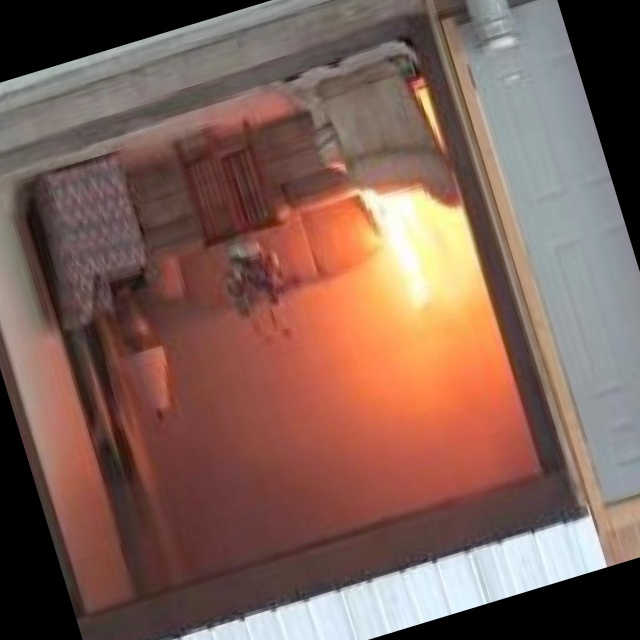fire: (345, 162, 481, 324)
